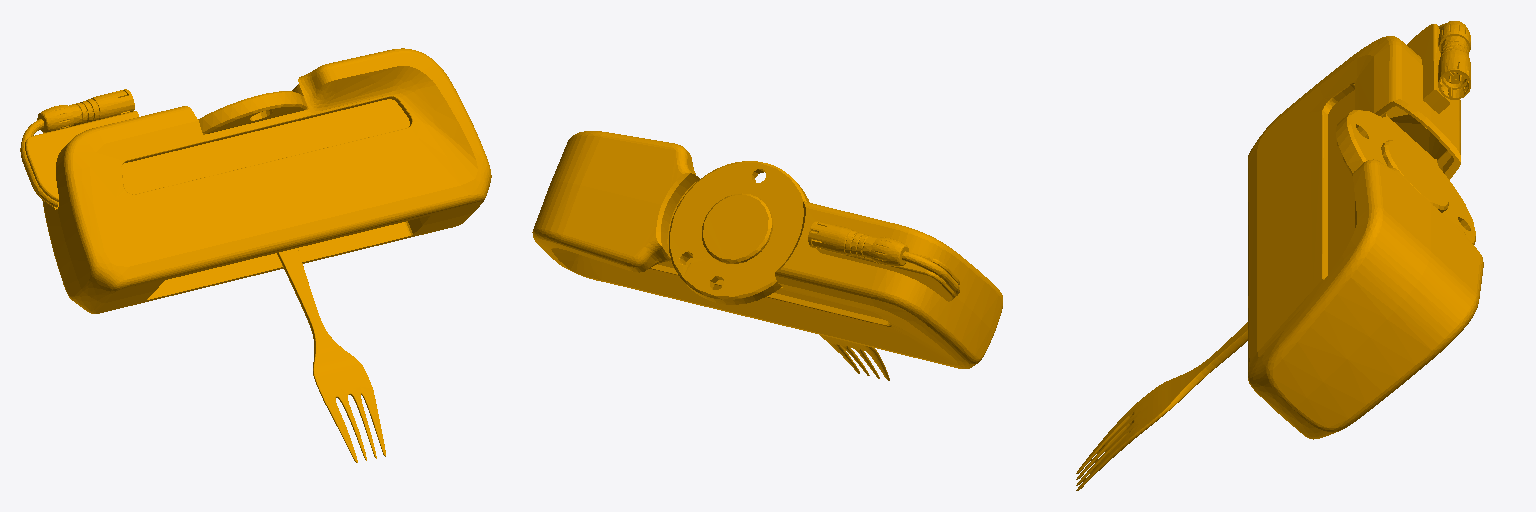
robot.urdf — panda:
<?xml version="1.0" ?>
<robot name="panda" xmlns:xacro="http://www.ros.org/wiki/xacro">
  <link name="panda_link0">
    <visual>
      <geometry>
        <mesh filename="meshes/visual/link0.dae"/>
      </geometry>
    </visual>
    <collision>
      <geometry>
        <mesh filename="meshes/collision/link0.obj"/>
      </geometry>
    </collision>
  </link>
  <link name="panda_link1">
    <visual>
      <geometry>
        <mesh filename="meshes/visual/link1.dae"/>
      </geometry>
    </visual>
    <collision>
      <geometry>
        <mesh filename="meshes/collision/link1.obj"/>
      </geometry>
    </collision>
  </link>
  <joint name="panda_joint1" type="revolute">
    <safety_controller k_position="100.0" k_velocity="40.0" soft_lower_limit="-2.8973" soft_upper_limit="2.8973"/>
    <origin rpy="0 0 0" xyz="0 0 0.333"/>
    <parent link="panda_link0"/>
    <child link="panda_link1"/>
    <axis xyz="0 0 1"/>
    <dynamics damping="10.0"/>
    <limit effort="87" lower="-2.8973" upper="2.8973" velocity="2.1750"/>
  </joint>
  <link name="panda_link2">
    <visual>
      <geometry>
        <mesh filename="meshes/visual/link2.dae"/>
      </geometry>
    </visual>
    <collision>
      <geometry>
        <mesh filename="meshes/collision/link2.obj"/>
      </geometry>
    </collision>
  </link>
  <joint name="panda_joint2" type="revolute">
    <safety_controller k_position="100.0" k_velocity="40.0" soft_lower_limit="-1.7628" soft_upper_limit="1.7628"/>
    <origin rpy="-1.57079632679 0 0" xyz="0 0 0"/>
    <parent link="panda_link1"/>
    <child link="panda_link2"/>
    <axis xyz="0 0 1"/>
    <dynamics damping="10.0"/>
    <limit effort="87" lower="-1.7628" upper="1.7628" velocity="2.1750"/>
  </joint>
  <link name="panda_link3">
    <visual>
      <geometry>
        <mesh filename="meshes/visual/link3.dae"/>
      </geometry>
    </visual>
    <collision>
      <geometry>
        <mesh filename="meshes/collision/link3.obj"/>
      </geometry>
    </collision>
  </link>
  <joint name="panda_joint3" type="revolute">
    <safety_controller k_position="100.0" k_velocity="40.0" soft_lower_limit="-2.8973" soft_upper_limit="2.8973"/>
    <origin rpy="1.57079632679 0 0" xyz="0 -0.316 0"/>
    <parent link="panda_link2"/>
    <child link="panda_link3"/>
    <axis xyz="0 0 1"/>
    <dynamics damping="10.0"/>
    <limit effort="87" lower="-2.8973" upper="2.8973" velocity="2.1750"/>
  </joint>
  <link name="panda_link4">
    <visual>
      <geometry>
        <mesh filename="meshes/visual/link4.dae"/>
      </geometry>
    </visual>
    <collision>
      <geometry>
        <mesh filename="meshes/collision/link4.obj"/>
      </geometry>
    </collision>
  </link>
  <joint name="panda_joint4" type="revolute">
    <safety_controller k_position="100.0" k_velocity="40.0" soft_lower_limit="-3.0718" soft_upper_limit="-0.0698"/>
    <origin rpy="1.57079632679 0 0" xyz="0.0825 0 0"/>
    <parent link="panda_link3"/>
    <child link="panda_link4"/>
    <axis xyz="0 0 1"/>    
    <dynamics damping="10.0"/>
    <limit effort="87" lower="-3.0718" upper="-0.0698" velocity="2.1750"/>
    <!-- something is weird with this joint limit config
    <dynamics damping="10.0"/>
    <limit effort="87" lower="-3.0" upper="0.087" velocity="2.1750"/>  -->
  </joint>
  <link name="panda_link5">
    <visual>
      <geometry>
        <mesh filename="meshes/visual/link5.dae"/>
      </geometry>
    </visual>
    <collision>
      <geometry>
        <mesh filename="meshes/collision/link5.obj"/>
      </geometry>
    </collision>
  </link>
  <joint name="panda_joint5" type="revolute">
    <safety_controller k_position="100.0" k_velocity="40.0" soft_lower_limit="-2.8973" soft_upper_limit="2.8973"/>
    <origin rpy="-1.57079632679 0 0" xyz="-0.0825 0.384 0"/>
    <parent link="panda_link4"/>
    <child link="panda_link5"/>
    <axis xyz="0 0 1"/>
    <dynamics damping="10.0"/>
    <limit effort="12" lower="-2.8973" upper="2.8973" velocity="2.6100"/>
  </joint>
  <link name="panda_link6">
    <visual>
      <geometry>
        <mesh filename="meshes/visual/link6.dae"/>
      </geometry>
    </visual>
    <collision>
      <geometry>
        <mesh filename="meshes/collision/link6.obj"/>
      </geometry>
    </collision>
  </link>
  <joint name="panda_joint6" type="revolute">
    <safety_controller k_position="100.0" k_velocity="40.0" soft_lower_limit="-0.0175" soft_upper_limit="3.7525"/>
    <origin rpy="1.57079632679 0 0" xyz="0 0 0"/>
    <parent link="panda_link5"/>
    <child link="panda_link6"/>
    <axis xyz="0 0 1"/>
    <dynamics damping="10.0"/>
    <limit effort="12" lower="-0.0175" upper="3.7525" velocity="2.6100"/>
    <!-- <dynamics damping="10.0"/>
    <limit effort="12" lower="-0.0873" upper="3.0" velocity="2.6100"/> -->
  </joint>
  <link name="panda_link7">
    <visual>
      <geometry>
        <mesh filename="meshes/visual/link7.dae"/>
      </geometry>
    </visual>
    <collision>
      <geometry>
        <mesh filename="meshes/collision/link7.obj"/>
      </geometry>
    </collision>
  </link>
  <joint name="panda_joint7" type="revolute">
    <safety_controller k_position="100.0" k_velocity="40.0" soft_lower_limit="-2.8973" soft_upper_limit="2.8973"/>
    <origin rpy="1.57079632679 0 0" xyz="0.088 0 0"/>
    <parent link="panda_link6"/>
    <child link="panda_link7"/>
    <axis xyz="0 0 1"/>
    <dynamics damping="10.0"/>
    <limit effort="12" lower="-2.8973" upper="2.8973" velocity="2.6100"/>
  </joint>
  <!--
  <link name="panda_link8"/>
  <joint name="panda_joint8" type="fixed">
    <origin rpy="0 0 0" xyz="0 0 0.107"/>
    <parent link="panda_link7"/>
    <child link="panda_link8"/>
    <axis xyz="0 0 0"/>
  </joint>
  Removing this joint seems to help with some stability things
  -->
  <joint name="panda_hand_joint" type="fixed">
    <!--
    <parent link="panda_link8"/>
    -->
    <parent link="panda_link7"/>
    <child link="panda_hand"/>
    <origin rpy="0 0 -0.785398163397" xyz="0 0 0.107"/>
    <!--
    <origin rpy="0 0 -0.785398163397" xyz="0 0 0"/>
    -->
  </joint>
  <link name="panda_hand">
    <visual>
      <geometry>
        <mesh filename="meshes/visual/fork_hand.obj"/>
      </geometry>
    </visual>
    <collision>
      <geometry>
        <mesh filename="meshes/collision/fork.obj"/>
      </geometry>
    </collision>
  <inertial>
    <mass value="0.5"/> 
    <inertia ixx="0.0001" ixy="0.0" ixz="0.0" iyy="0.0001" iyz="0.0" izz="0.0001"/>
  </inertial>
  </link>
  <link name="panda_leftfinger">
    <visual>
      <geometry>
        <mesh filename="meshes/visual/finger.dae"/>
      </geometry>
    </visual>
    <collision>
      <geometry>
        <mesh filename="meshes/collision/finger.obj"/>
      </geometry>
    </collision>
  </link>
  <link name="panda_rightfinger">
    <visual>
      <origin rpy="0 0 3.14159265359" xyz="0 0 0"/>
      <geometry>
        <mesh filename="meshes/visual/finger.dae"/>
      </geometry>
    </visual>
    <collision>
      <origin rpy="0 0 3.14159265359" xyz="0 0 0"/>
      <geometry>
        <mesh filename="meshes/collision/finger.obj"/>
      </geometry>
    </collision>
  </link>
  <joint name="panda_finger_joint1" type="prismatic">
    <parent link="panda_hand"/>
    <child link="panda_leftfinger"/>
    <origin rpy="0 0 0" xyz="0 0 0.0584"/>
    <axis xyz="0 1 0"/>
    <dynamics damping="10.0"/>
    <limit effort="20" lower="0.0" upper="0.04" velocity="0.2"/>
  </joint>
  <joint name="panda_finger_joint2" type="prismatic">
    <parent link="panda_hand"/>
    <child link="panda_rightfinger"/>
    <origin rpy="0 0 0" xyz="0 0 0.0584"/>
    <axis xyz="0 -1 0"/>
    <dynamics damping="10.0"/>
    <limit effort="20" lower="0.0" upper="0.04" velocity="0.2"/>
    <mimic joint="panda_finger_joint1"/>
  </joint>
</robot>

--- What the picture shows (computed from the rendered views, not written in the file) ---
Views: 3 orthographic renders of the robot side by side, from view 1: azimuth 30°, elevation 25°; view 2: azimuth 150°, elevation 25°; view 3: azimuth 270°, elevation 25°.
Model panda with 11 links and 10 joints (7 revolute, 2 prismatic, 1 fixed), rooted at panda_link0, posed joints at zero except 1 at the middle of their limits (panda_joint4 = -1.57).
Visible links, largest first — view 1: panda_hand; view 2: panda_hand; view 3: panda_hand.
Boxes of the visible links, box(x1,y1,x2,y2) form: panda_hand: box(20, 48, 491, 462); panda_hand: box(532, 131, 1002, 380); panda_hand: box(1076, 21, 1483, 490).
Bounding box of the posed robot: 0.2045 × 0.1408 × 0.14 m (x, y, z).
Meshes: 10 distinct files referenced, 1 mesh visuals loaded (1 OBJ); not drawn: 10 (reference not matched to a file when rendering).